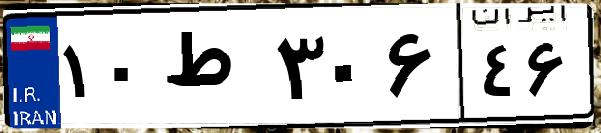0: (330, 28, 385, 110), (110, 28, 158, 98)
1: (57, 26, 110, 100)
3: (270, 28, 330, 110)
4: (475, 38, 525, 113)
6: (385, 28, 445, 110), (525, 38, 570, 115)
ط: (158, 20, 270, 120)
